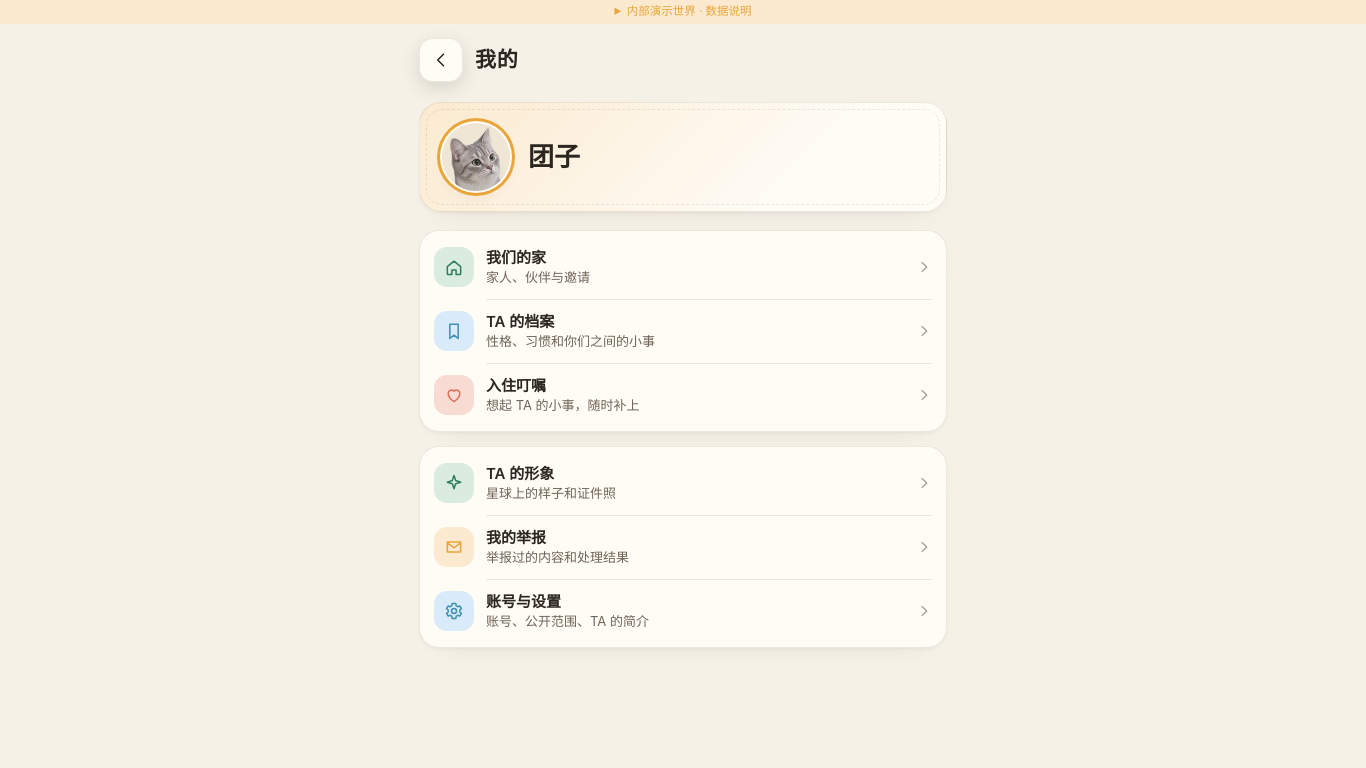
Test: TA 的形象：入口 › “我的”页第二组第一个是“TA 的形象”，指向 /me/look；点进去就是这页，左上角回 /me（演示模式经真实路由表）
The image size is (1366, 768).
Click the link "TA 的形象 星球上的样子和证件照": (454, 483) [420,450,946,514]
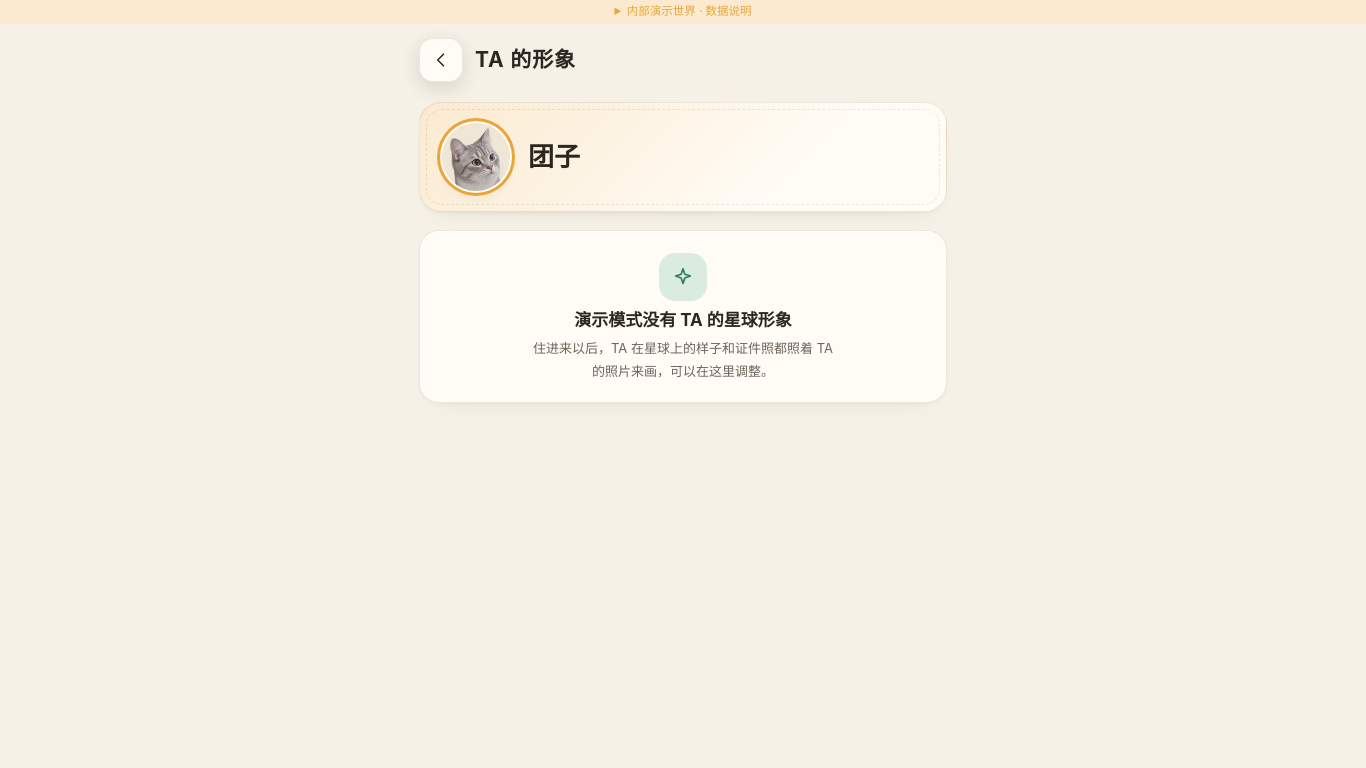
Expected: the heading "TA 的形象" is shown, [475,46,576,73]
Expected: the heading "演示模式没有 TA 的星球形象" is shown, [574,310,792,330]
